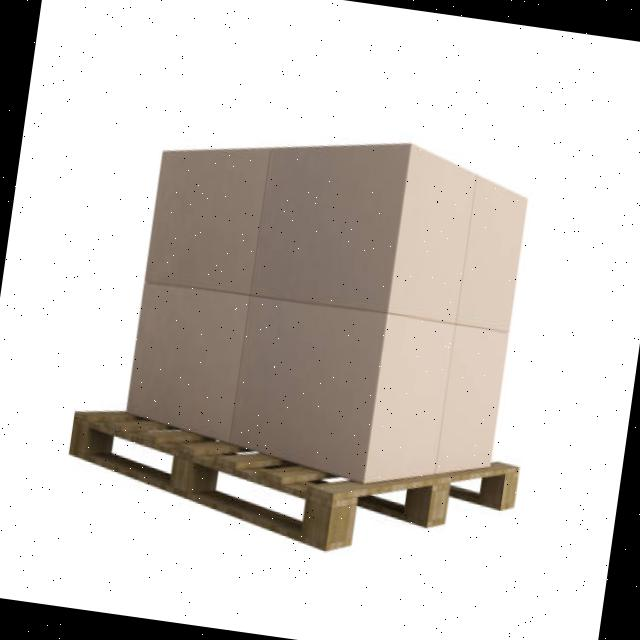Wooden-Pallets: (64, 412, 519, 553)
